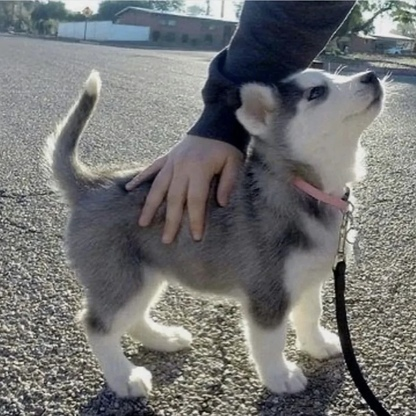husky: (33, 64, 393, 404)
